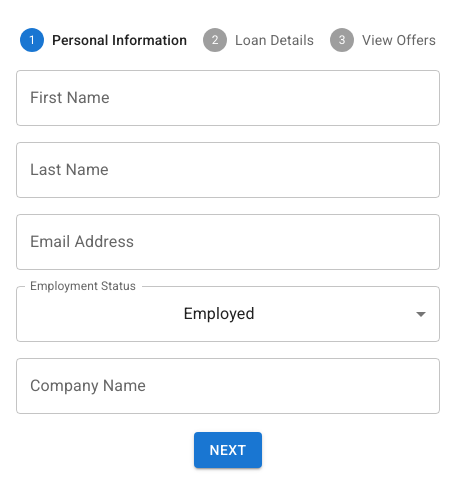
Loan Application › User Details Validation › should validate email address
Step 1. Type "John" into the field named "emailAddress" → (228, 242), box [16, 214, 440, 270]
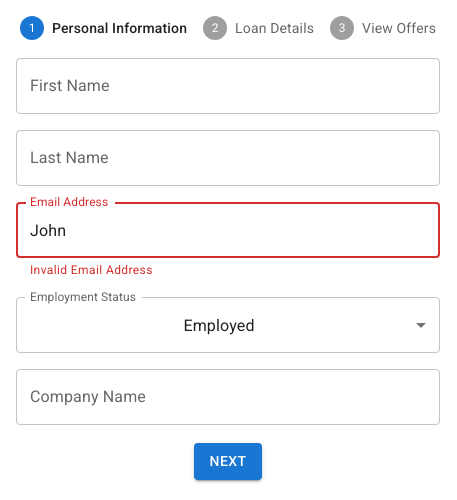
Step 2. Clear the field named "emailAddress" → (228, 230), box [16, 202, 440, 258]
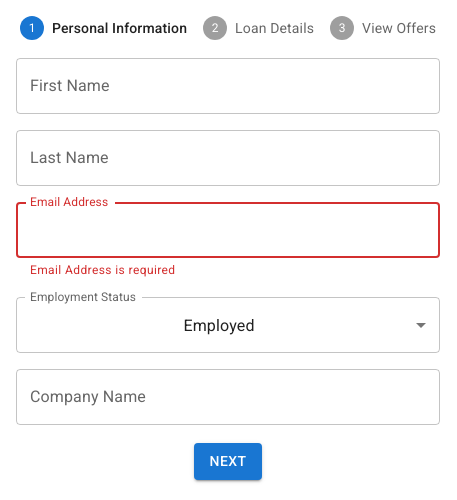
Check: the text "Email Address is required" is shown, box [30, 263, 176, 277]
Step 3. Type "invalid-email" into the field named "emailAddress" → (228, 230), box [16, 202, 440, 258]
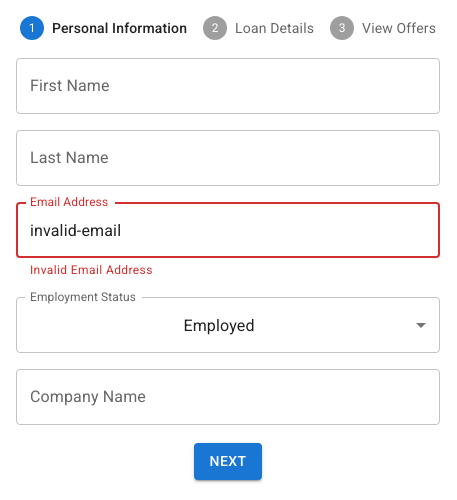
Check: the text "Invalid Email Address" is shown, box [30, 263, 153, 277]
